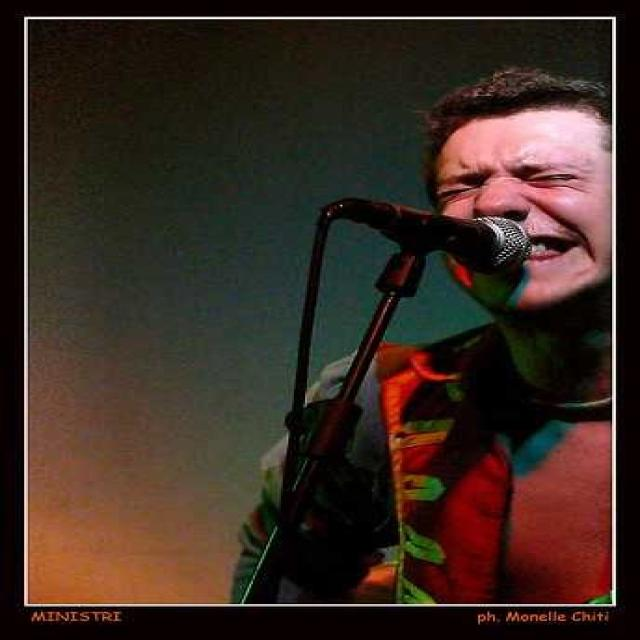microphone: (337, 200, 534, 274)
